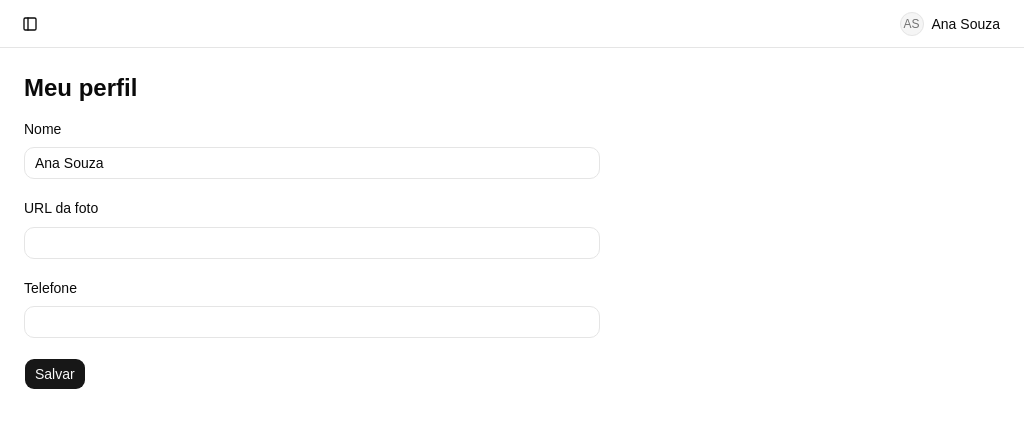
Perfil (História 6, FR-005) › salvar atualiza nome e foto no menu de perfil
This screenshot has width=1024, height=446.
Expected: the button with aria-label "Menu do perfil" shows "Ana Souza", [892, 8, 1008, 40]
Replace the text in the field labelled "Nome" with "Maria Lima" at (312, 163), box [24, 147, 600, 179]
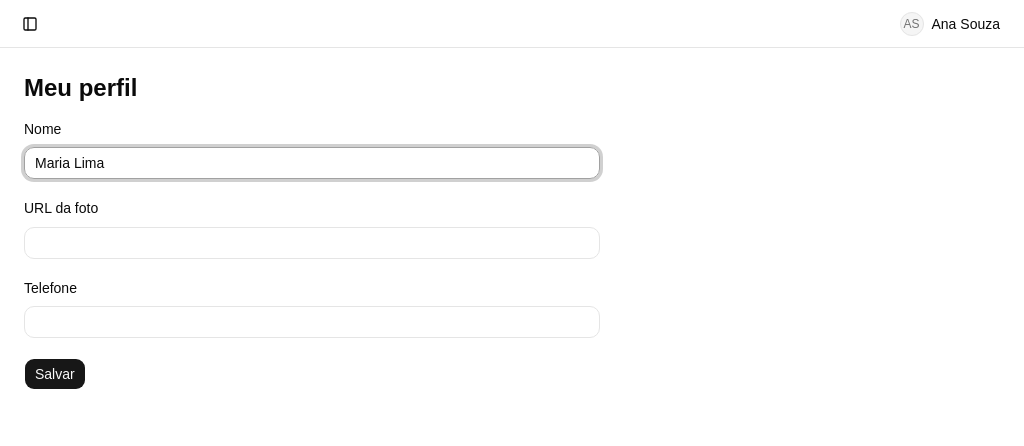
Type "https://exemplo.com/maria.png" into the field labelled "URL da foto" at (312, 242), box [24, 226, 600, 258]
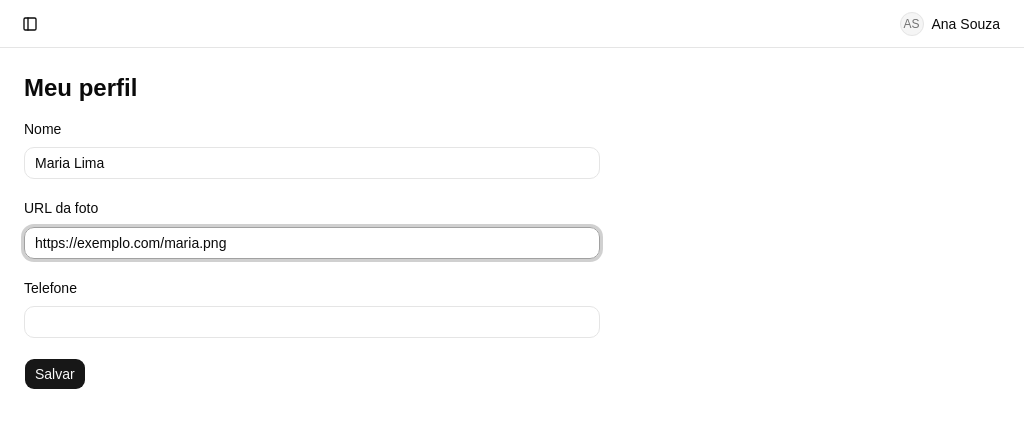
Type "(11) 98765-4321" into the field labelled "Telefone" at (312, 322), box [24, 306, 600, 338]
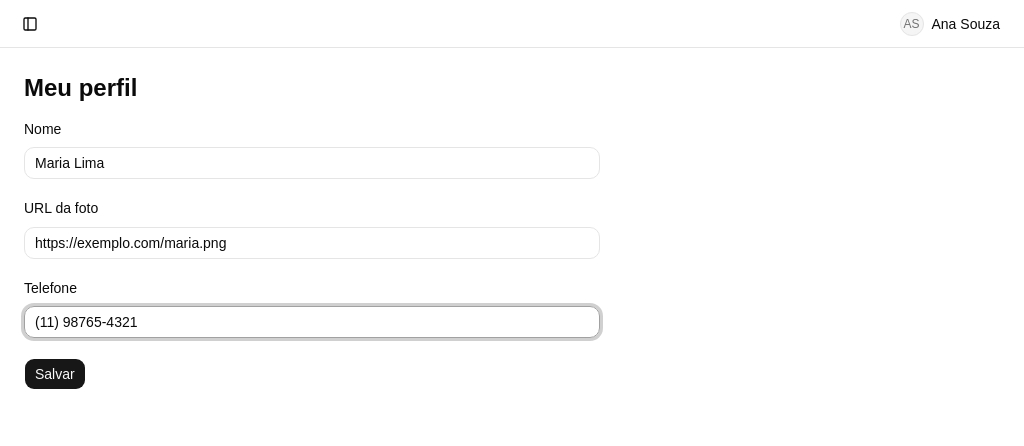
Click the button "Salvar" at (55, 374), box [24, 358, 86, 390]
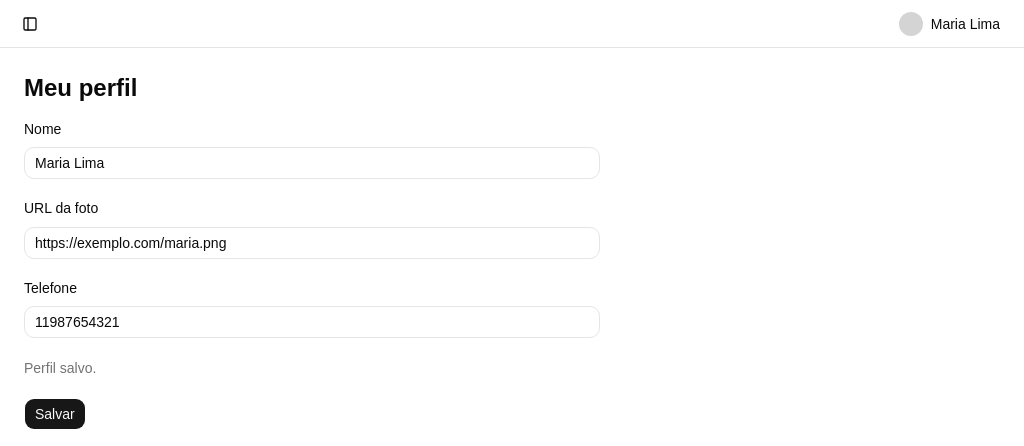
Now the text "Perfil salvo." is shown, box [24, 360, 96, 376]
Now the button with aria-label "Menu do perfil" reads "Maria Lima", box [891, 8, 1008, 40]
